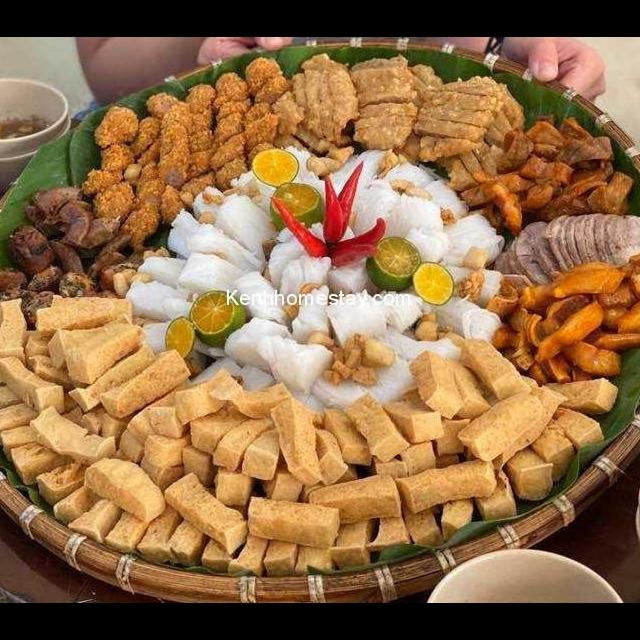bun: (130, 141, 512, 426)
bun dau: (0, 86, 640, 603)
cha com: (72, 50, 305, 247), (283, 48, 529, 192)
dau hu: (378, 331, 622, 562), (151, 364, 412, 577), (0, 352, 180, 603)
doi sun: (0, 181, 151, 336)
thit heo: (488, 205, 640, 306)
